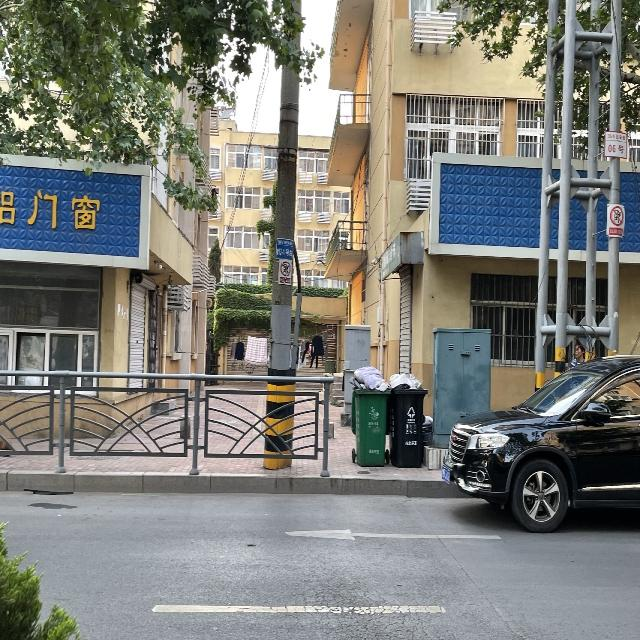overflow: (348, 365, 390, 466), (389, 372, 427, 467)
